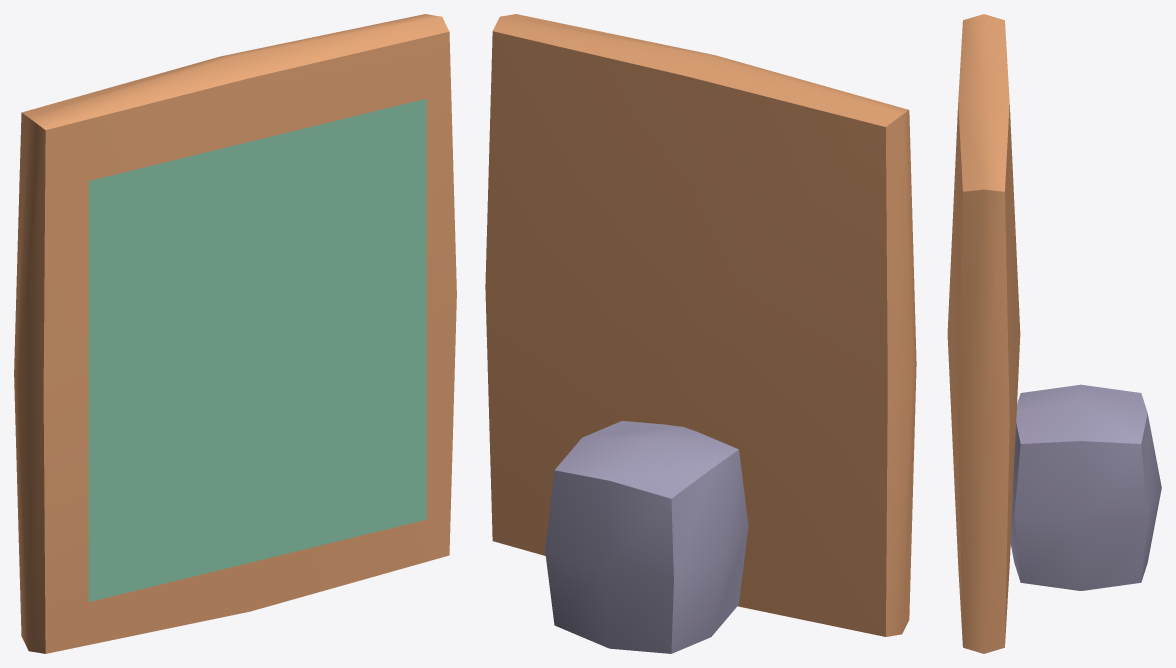
Rendered from photo-frame.glb.
3 views of the same model, side by side, from view 1: azimuth 30°, elevation 25°; view 2: azimuth 150°, elevation 25°; view 3: azimuth 270°, elevation 25° (orthographic). The views are drawn at different scales.
Parts seen in each view (by area): view 1: photo, part; view 2: part (×2); view 3: part (×2).
Part boxes in pixels (<box>): photo: <box>88,98,426,601</box>; part: <box>14,14,456,653</box>; part (×2): <box>485,14,916,653</box>; part (×2): <box>947,14,1161,653</box>.
Bounding box in the file's own units: 0.27 × 0.33 × 0.134.
Materials: 1 (1 with a texture image).
